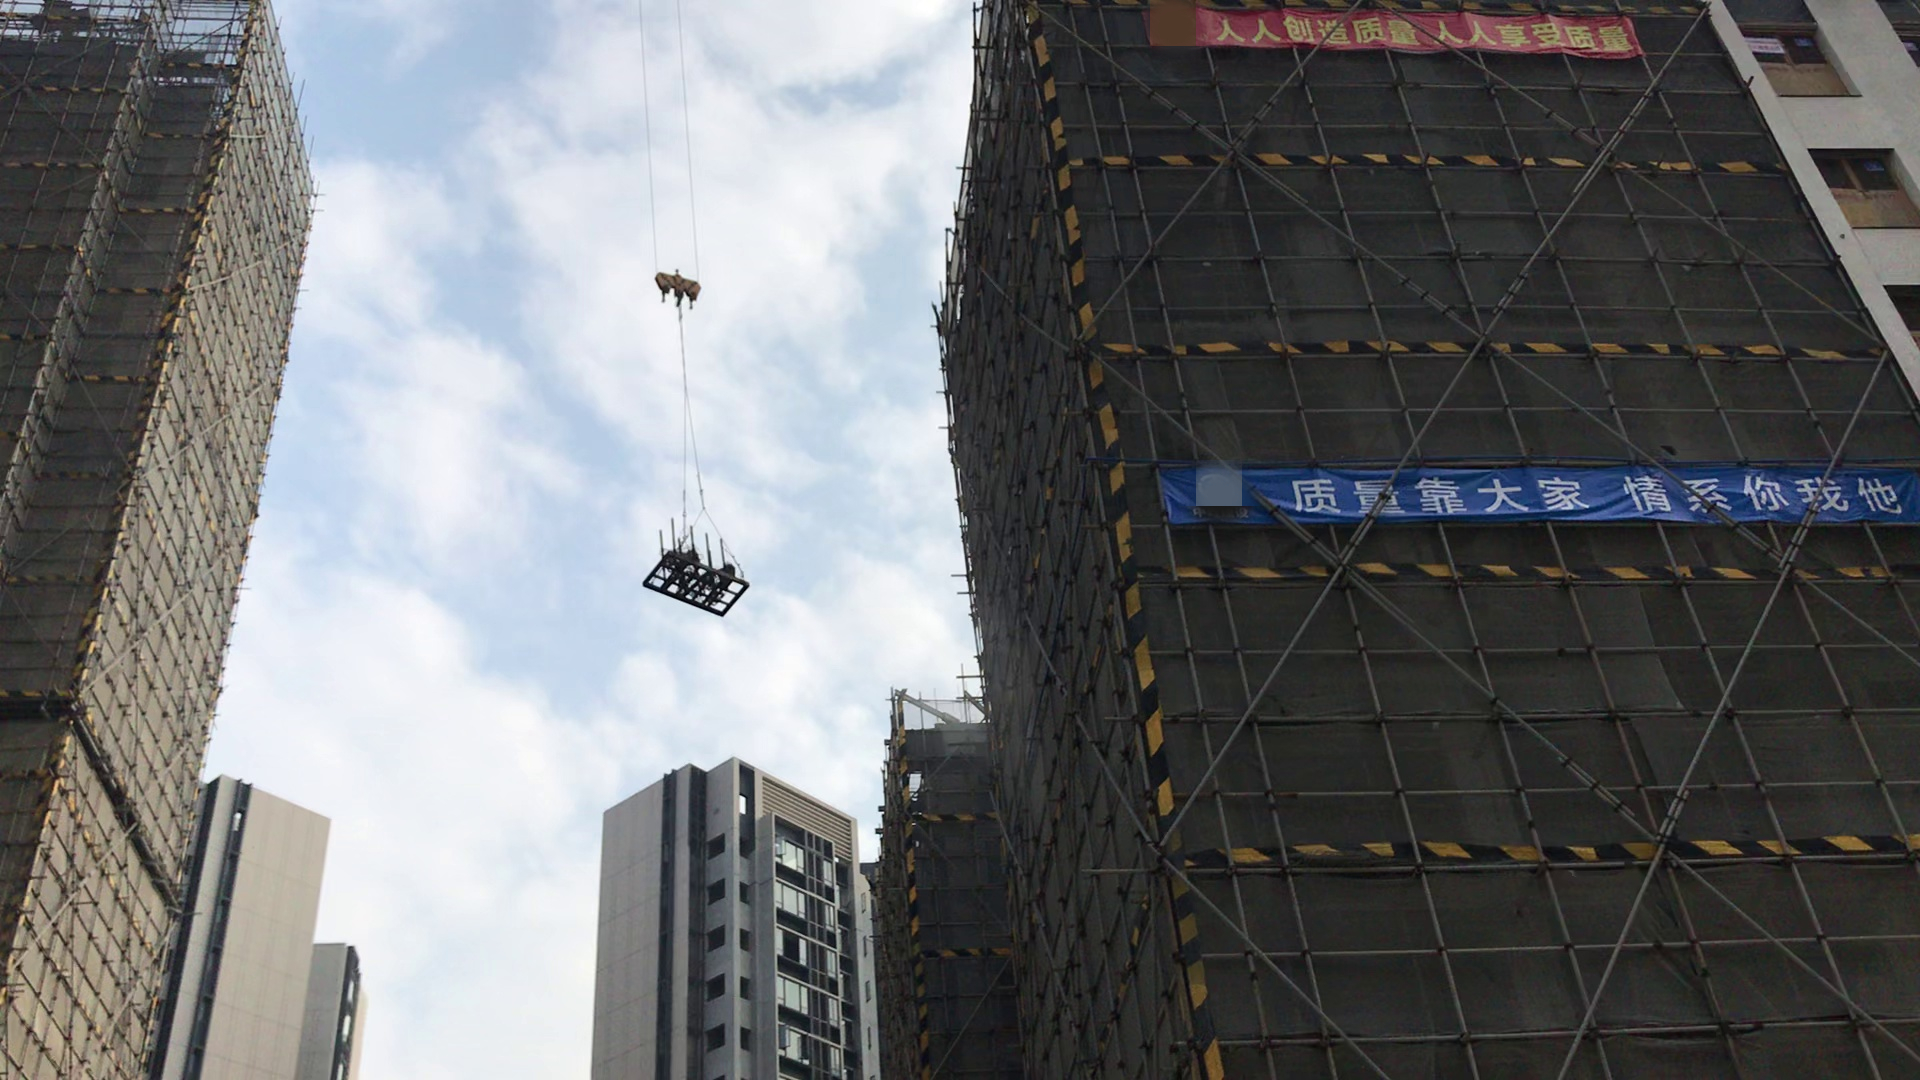hook: (646, 245, 720, 313)
slogan: (1213, 419, 1903, 560), (1168, 4, 1658, 76)
